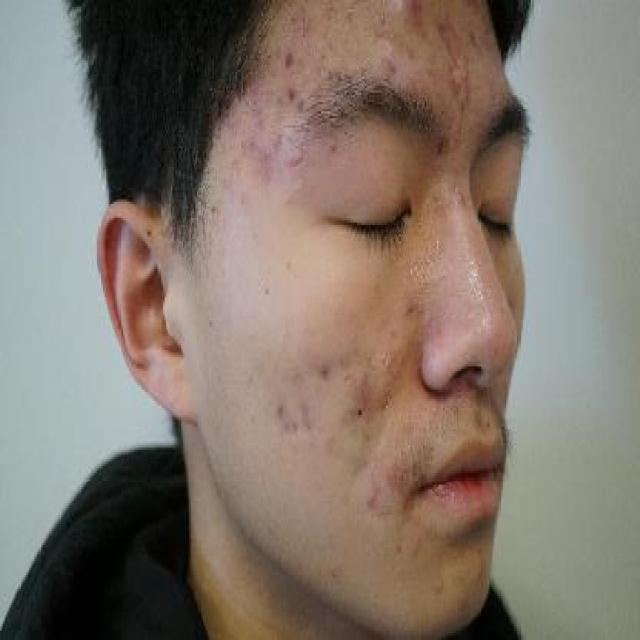Acne: (268, 393, 300, 436), (392, 0, 428, 32), (360, 488, 386, 516)
Blackheads: (311, 355, 334, 389), (277, 80, 301, 108), (277, 46, 301, 71)
Dark-Spots: (349, 396, 369, 427)
